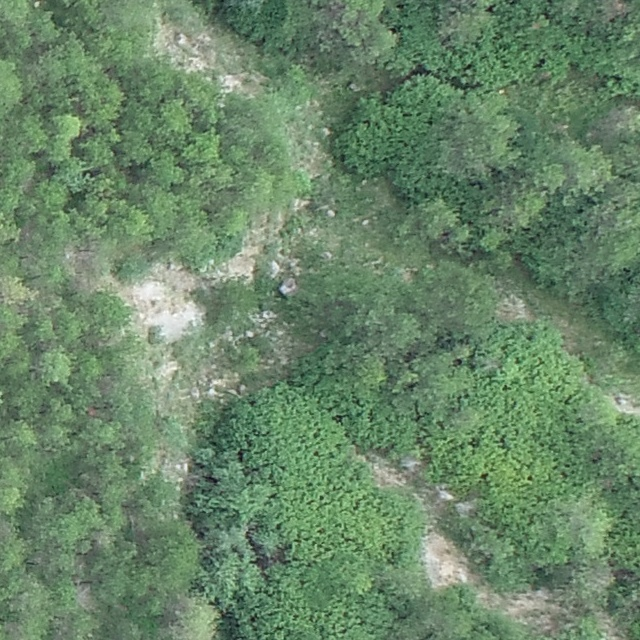unhealthy: (593, 99, 639, 140), (74, 581, 98, 611)
